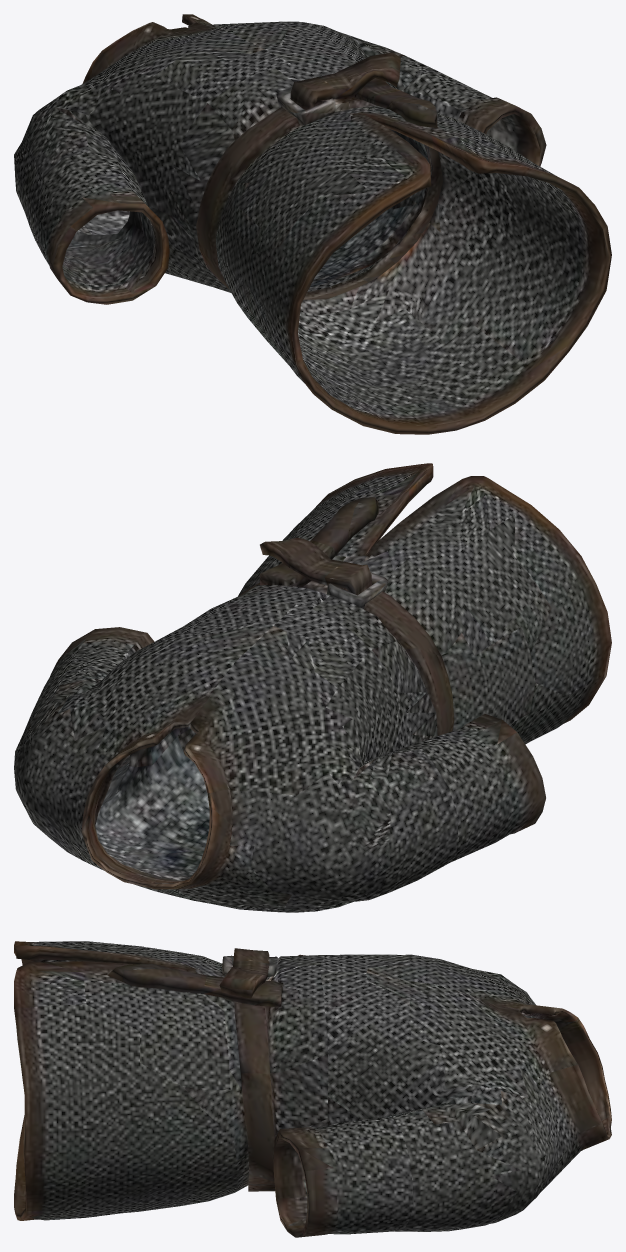
Rendered from chain_mail.glb.
3 renders of one model, top to bottom at view 1: azimuth 30°, elevation 25°; view 2: azimuth 150°, elevation 25°; view 3: azimuth 270°, elevation 25°, orthographic. The views are drawn at different scales.
Visible parts, largest first — view 1: chain_mail; view 2: chain_mail; view 3: chain_mail.
Boxes of the visible parts, bbox=[...] form: chain_mail: bbox=[14, 14, 611, 434]; chain_mail: bbox=[14, 463, 611, 912]; chain_mail: bbox=[14, 941, 611, 1237].
Size of the model in its own units: 0.5344 by 0.2777 by 0.6.
1 material, 1 textured.
